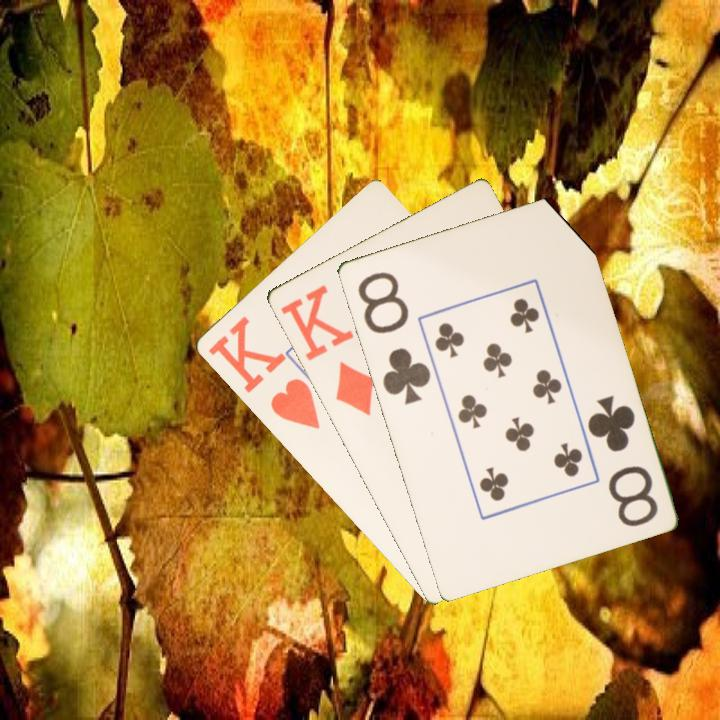8c: (353, 268, 433, 408), (583, 391, 661, 530)
Kd: (276, 281, 377, 419)
Kh: (203, 312, 323, 433)
